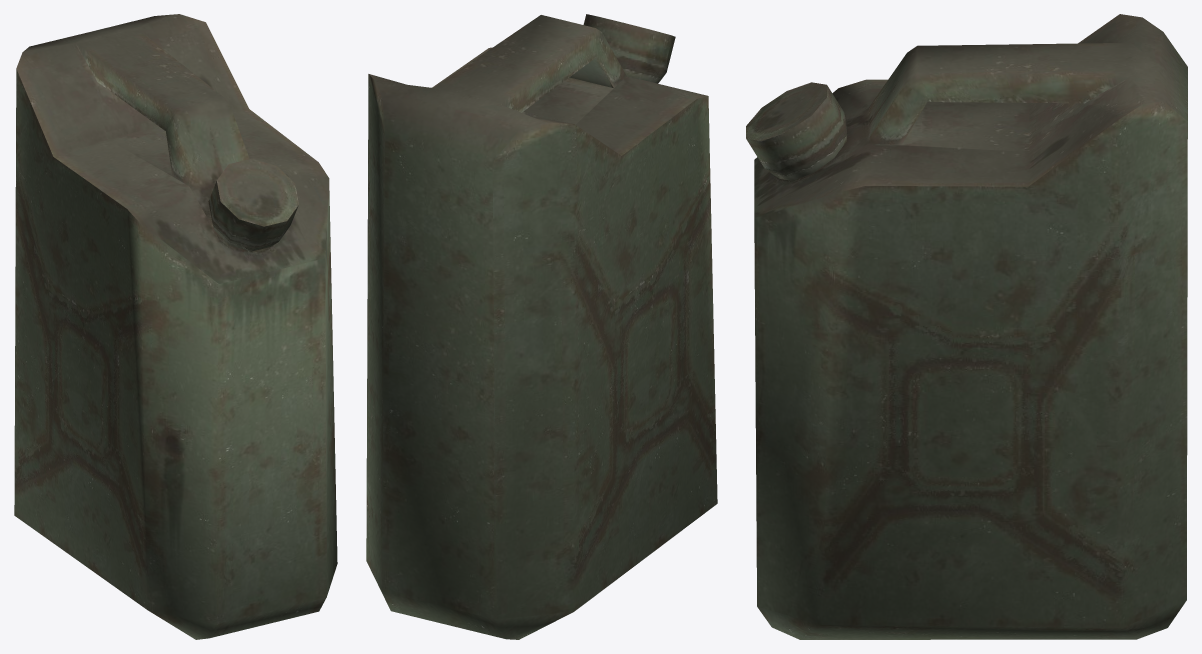
Rendered from jerrycan.glb.
The picture shows the model from 3 angles, left to right: view 1: azimuth 30°, elevation 25°; view 2: azimuth 150°, elevation 25°; view 3: azimuth 270°, elevation 25°; orthographic projection. The views are drawn at different scales.
Visible parts, largest first — view 1: jerrycanlow; view 2: jerrycanlow; view 3: jerrycanlow.
Part boxes in pixels (<box>): jerrycanlow: <box>14,14,337,639</box>; jerrycanlow: <box>366,14,717,639</box>; jerrycanlow: <box>746,14,1187,639</box>.
Bounding box in the file's own units: 17.95 × 42.51 × 30.85.
Materials: 1 (1 with a texture image).
